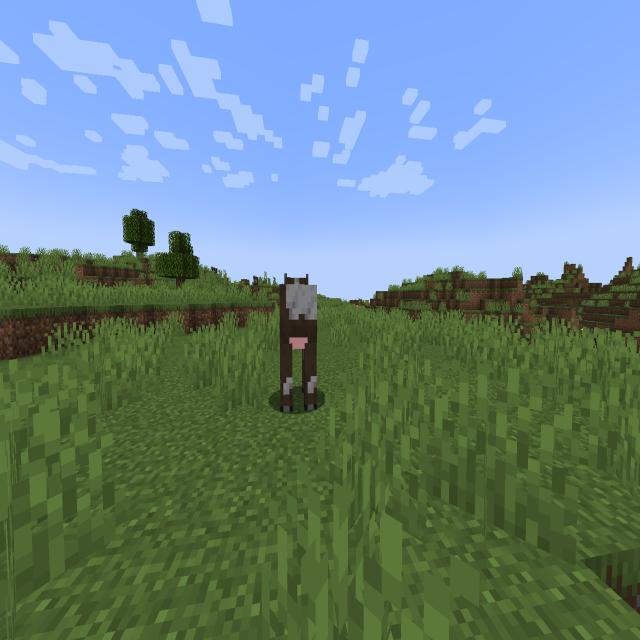cow: (274, 265, 324, 421)
